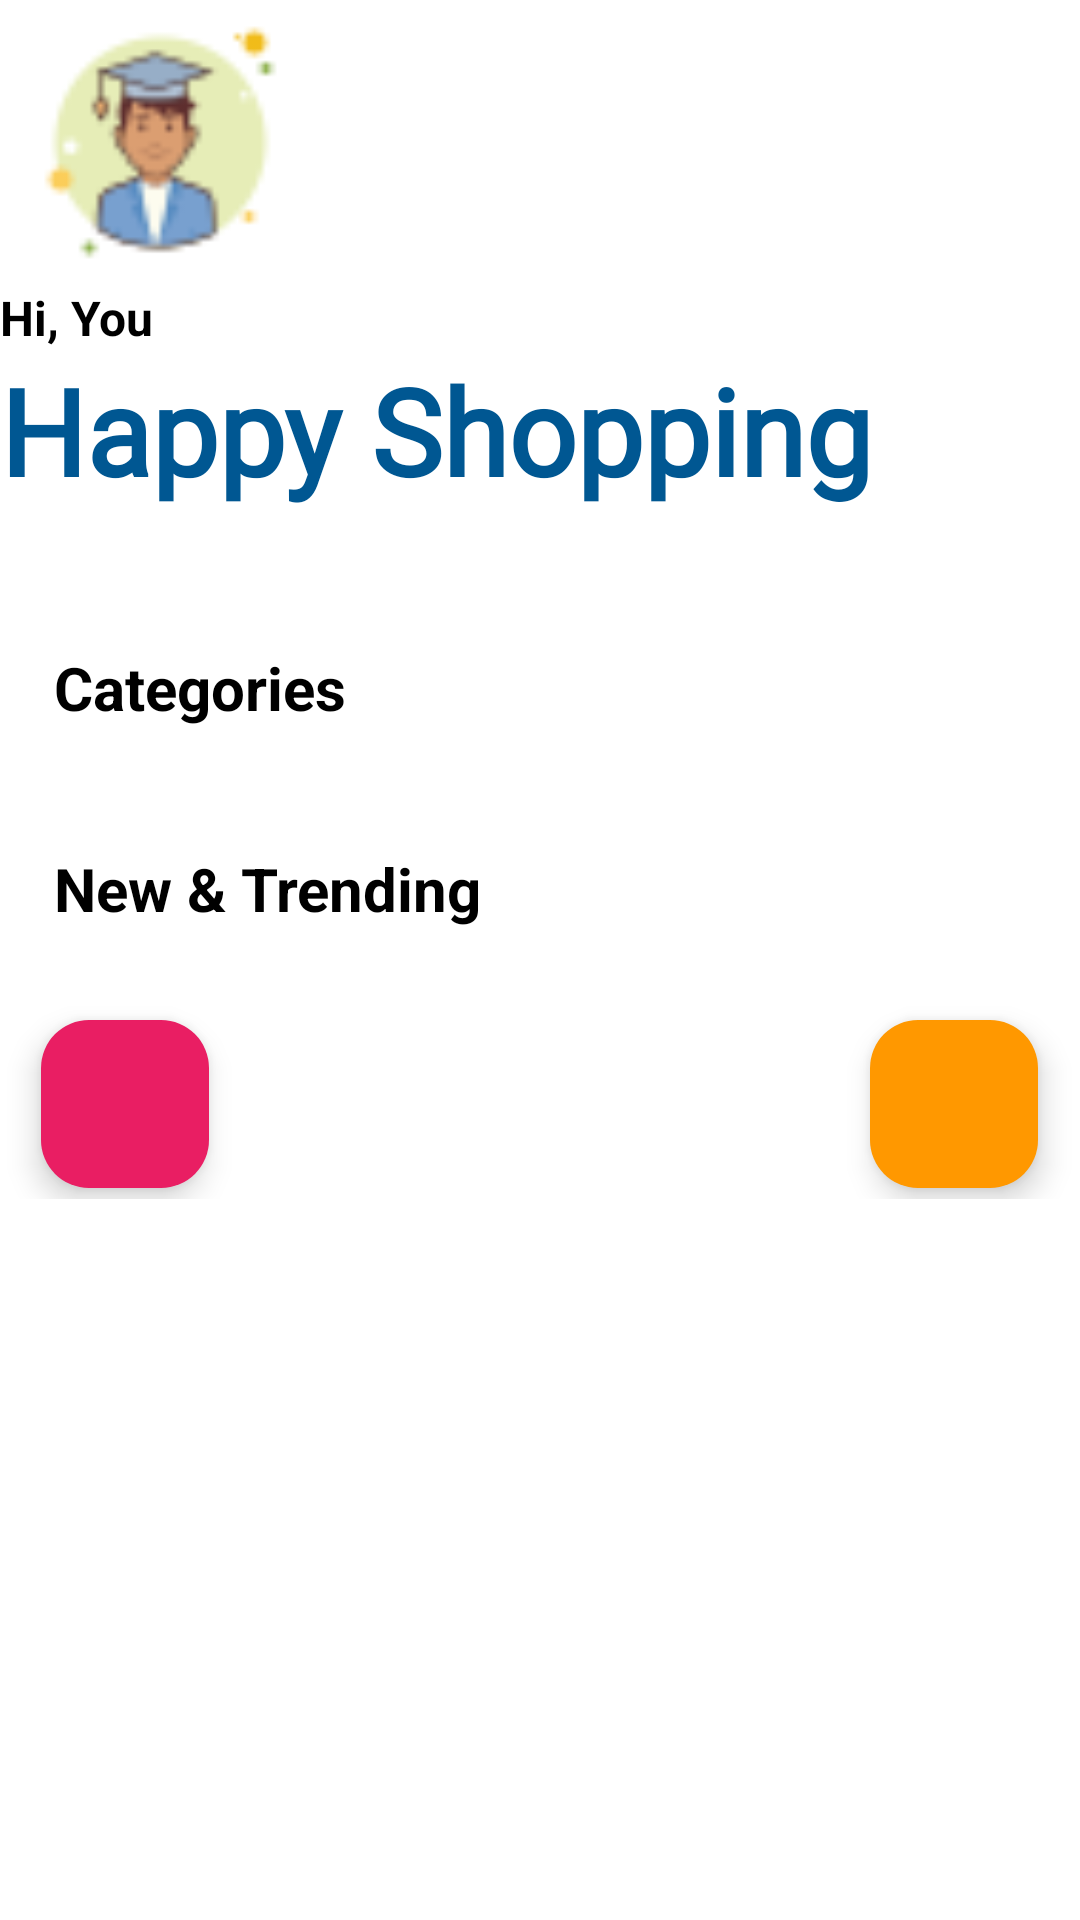

Screen size 1080px×1920px. Icon name, then its center in pixels as (x=x, y=y):
student: (x=160, y=142)
